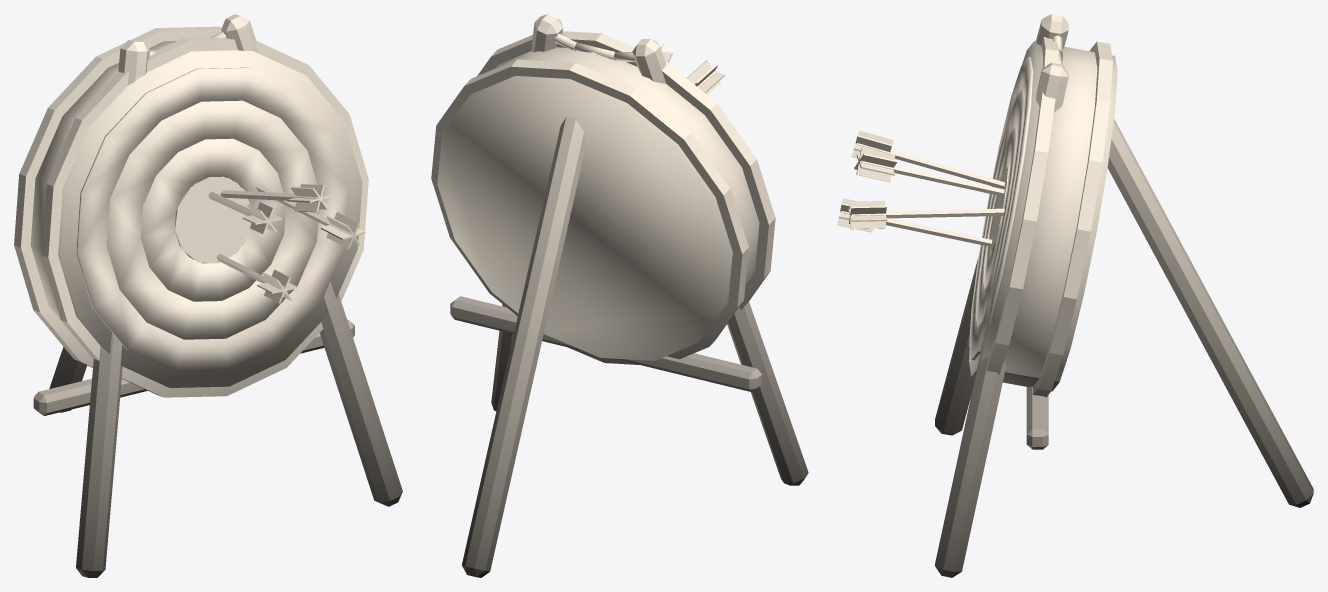
The model's file is SM_VK_Prop_ArcheryButt.fbx.
3 views of the same model, side by side, from view 1: azimuth 30°, elevation 25°; view 2: azimuth 150°, elevation 25°; view 3: azimuth 270°, elevation 25° (orthographic). The views are drawn at different scales.
Parts seen in each view (by area): view 1: SM_VK_Prop_ArcheryButt.001; view 2: SM_VK_Prop_ArcheryButt.001; view 3: SM_VK_Prop_ArcheryButt.001.
Part boxes in pixels (x1=…): SM_VK_Prop_ArcheryButt.001: x1=14, y1=14, x2=402, y2=577; SM_VK_Prop_ArcheryButt.001: x1=431, y1=14, x2=808, y2=577; SM_VK_Prop_ArcheryButt.001: x1=837, y1=14, x2=1313, y2=577.
Bounding box in the file's own units: 1.33 × 1.87 × 1.73.
